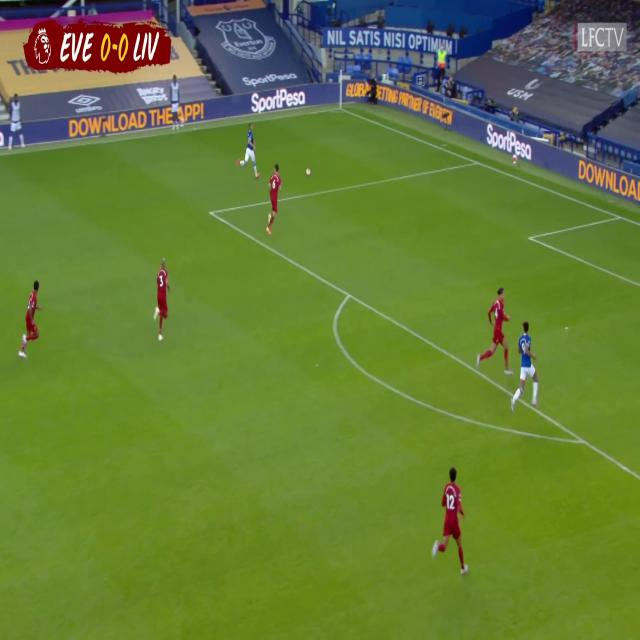Ball: (306, 169, 312, 176)
TEAM 1: (432, 468, 469, 578), (477, 284, 513, 372), (19, 280, 42, 358), (155, 257, 170, 342), (266, 162, 283, 234)
TEAM 2: (509, 322, 540, 414), (237, 125, 260, 177)
